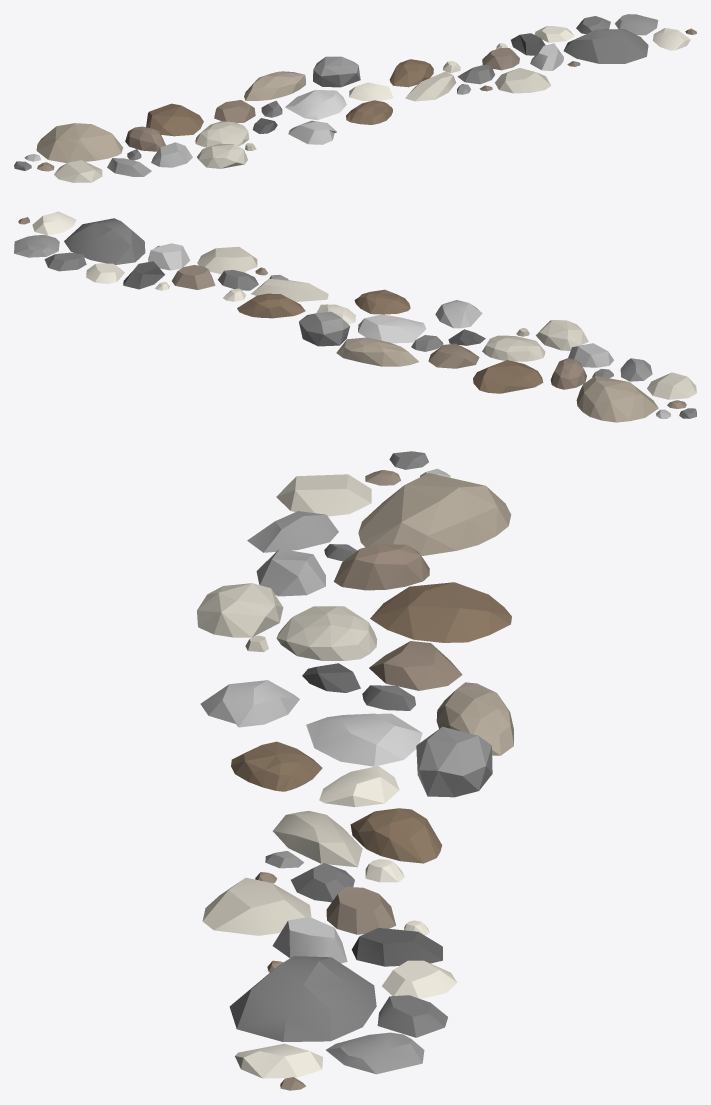
File: EA03_Environment_RoadIsland_09.glb
3 views of the same model, one above another, from view 1: azimuth 30°, elevation 25°; view 2: azimuth 150°, elevation 25°; view 3: azimuth 270°, elevation 25° (orthographic). The views are drawn at different scales.
Visible parts, largest first — view 1: EA03_Environment_RoadIsland_09; view 2: EA03_Environment_RoadIsland_09; view 3: EA03_Environment_RoadIsland_09.
Boxes of the visible parts, x1,y1,x2,y2 form: EA03_Environment_RoadIsland_09: (14, 14, 696, 182); EA03_Environment_RoadIsland_09: (14, 211, 696, 422); EA03_Environment_RoadIsland_09: (197, 451, 513, 1090).
Size of the model in its own units: 18.74 by 0.6046 by 3.95.
Materials: 1 (1 with a texture image).
